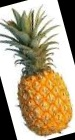Pineapple: (2, 6, 72, 136)
